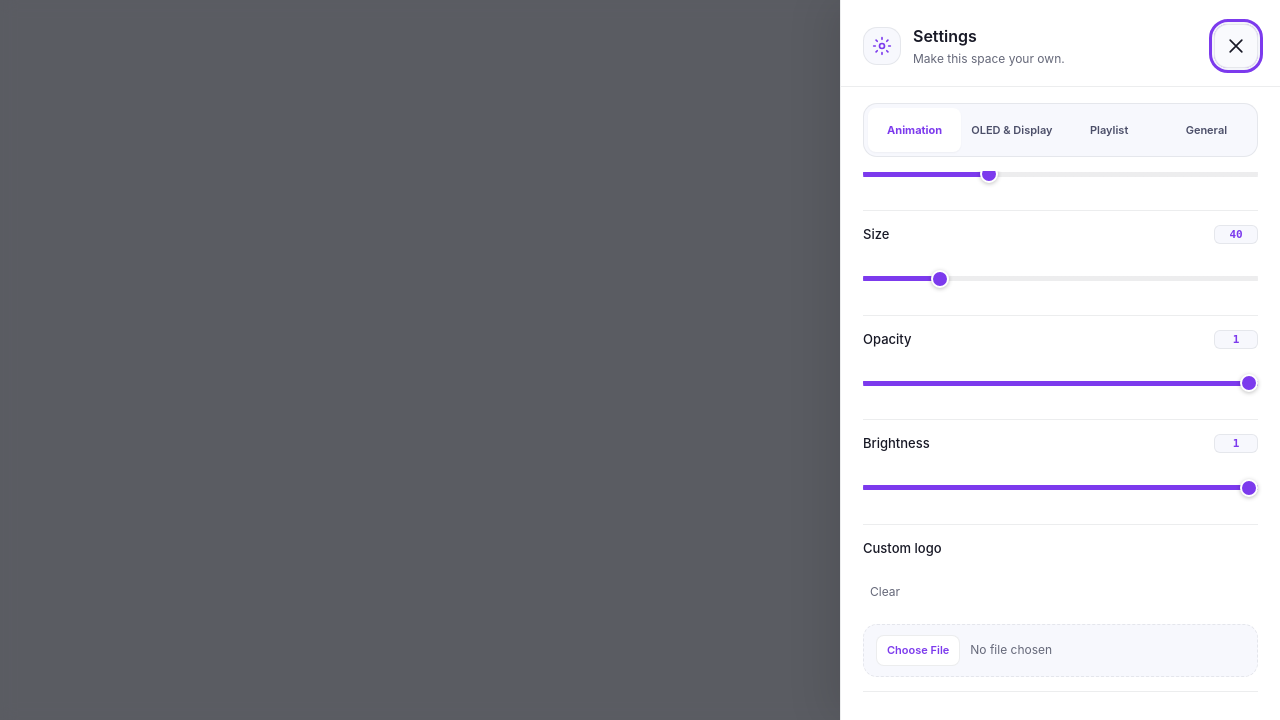
Test: SettingsPanel › clears an earlier image error after a successful removal
This screenshot has width=1280, height=720.
(page scrolled)
Click the button with aria-label "Clear Custom logo". click: (885,592)
box: [863, 570, 907, 614]
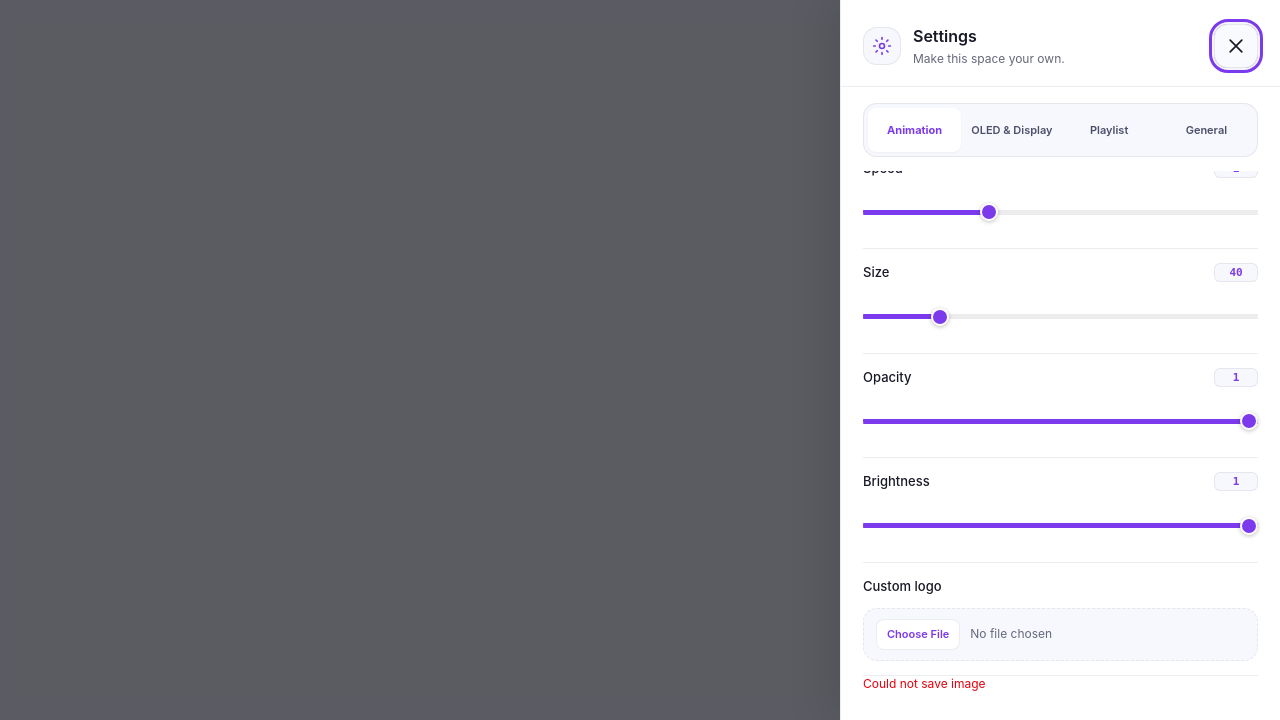
Expected: the message reads "Could not save image", [863, 676, 986, 690]
Click the tab "OLED & Display". click: (1012,130)
box: [965, 108, 1059, 152]
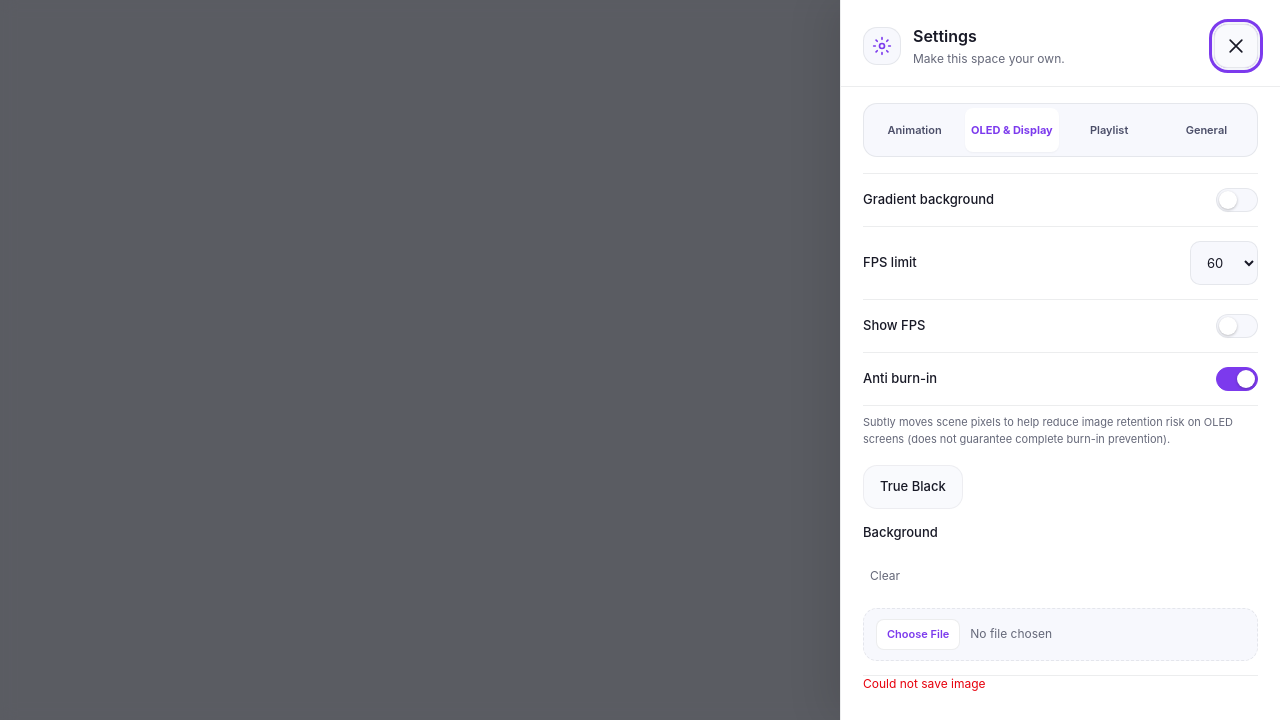
Click the button with aria-label "Clear Background". click: (885,576)
box: [863, 554, 907, 598]
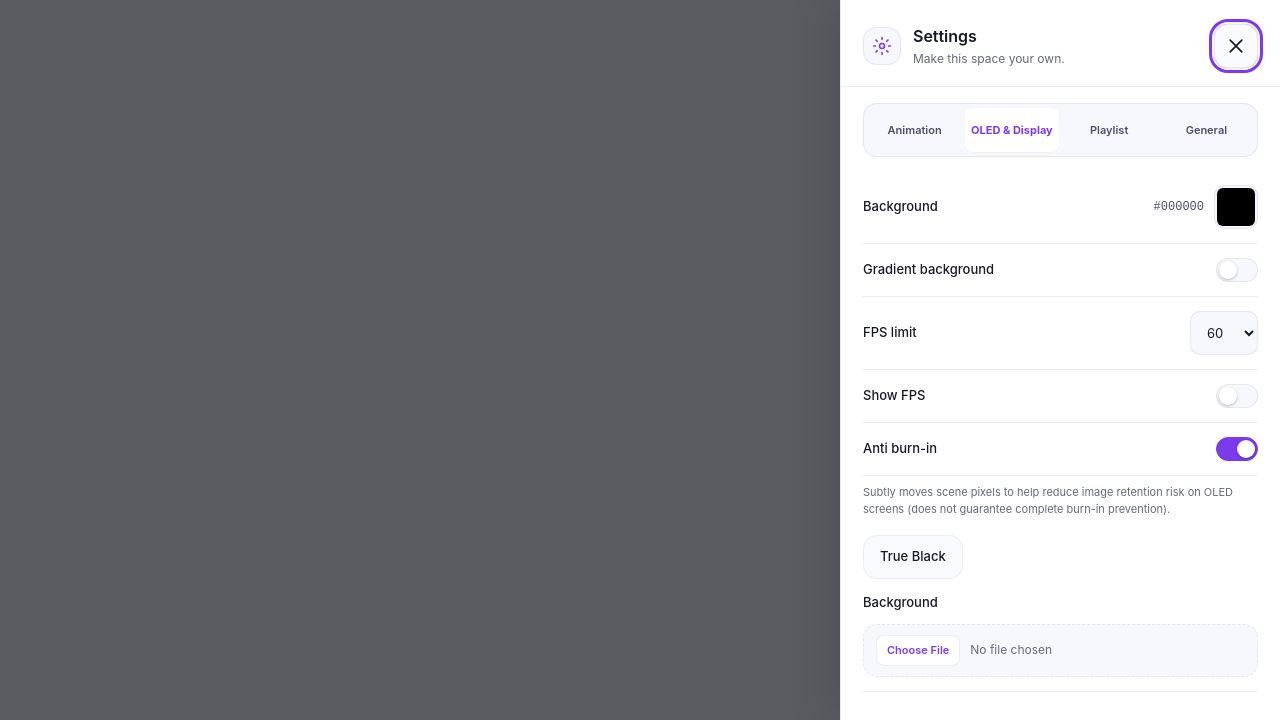
Expected: the message "Could not save image" is gone
